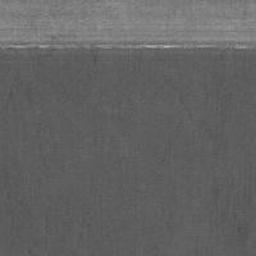Welding line: (0, 40, 256, 51)
